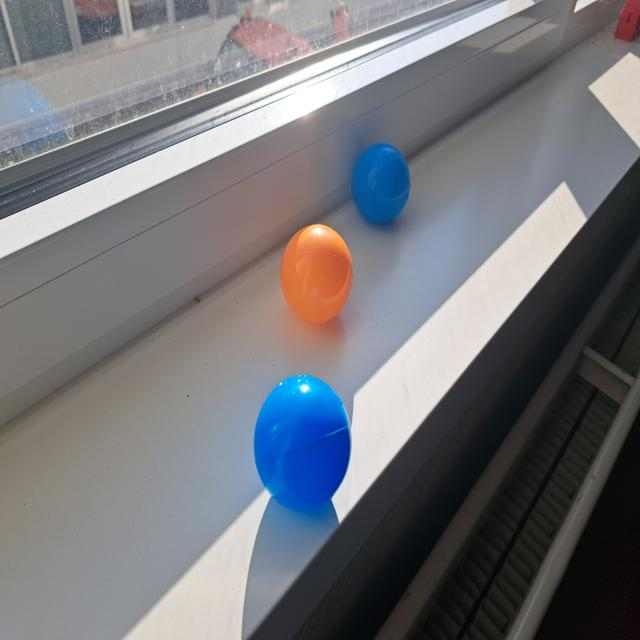blue: (250, 370, 353, 514), (350, 139, 413, 228)
orange: (279, 224, 354, 330)
